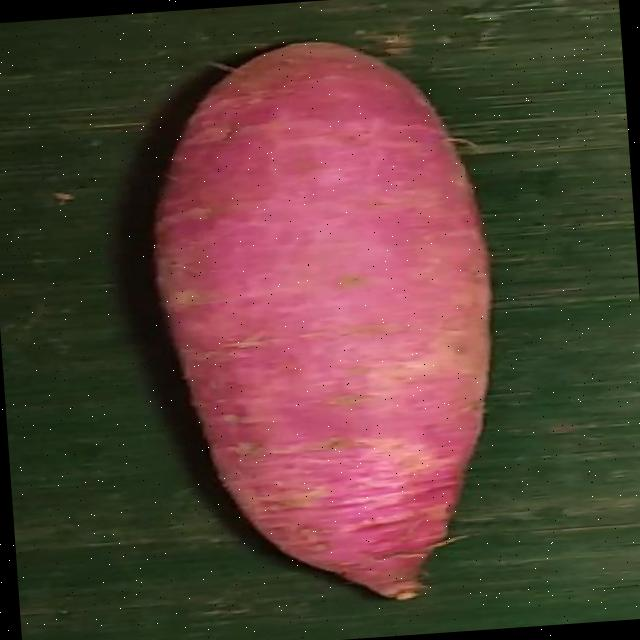Sweet Potato: (152, 42, 493, 599)
